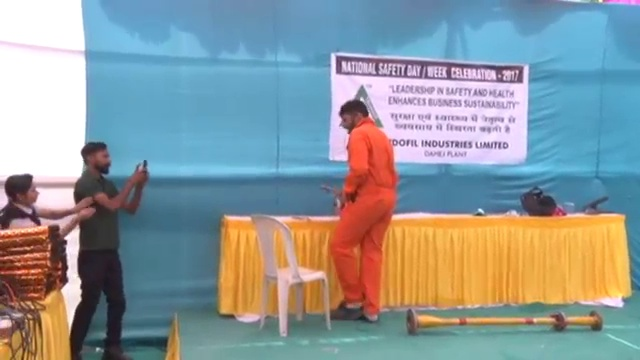helmet_off: (3, 174, 41, 207), (339, 98, 370, 135), (80, 142, 112, 176)
person: (68, 141, 151, 360), (327, 99, 394, 326), (1, 173, 85, 243)
